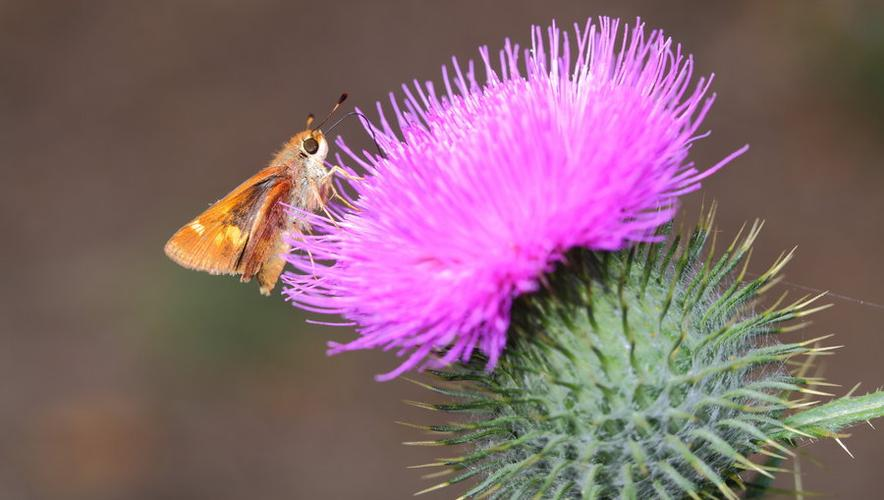Hesperiidae: (157, 89, 358, 296)
